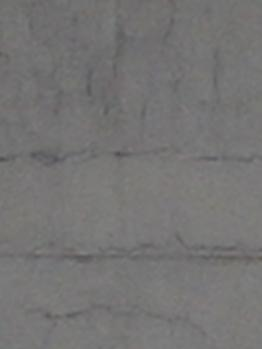fissura: (24, 217, 262, 293), (6, 290, 253, 349), (0, 132, 262, 184)
